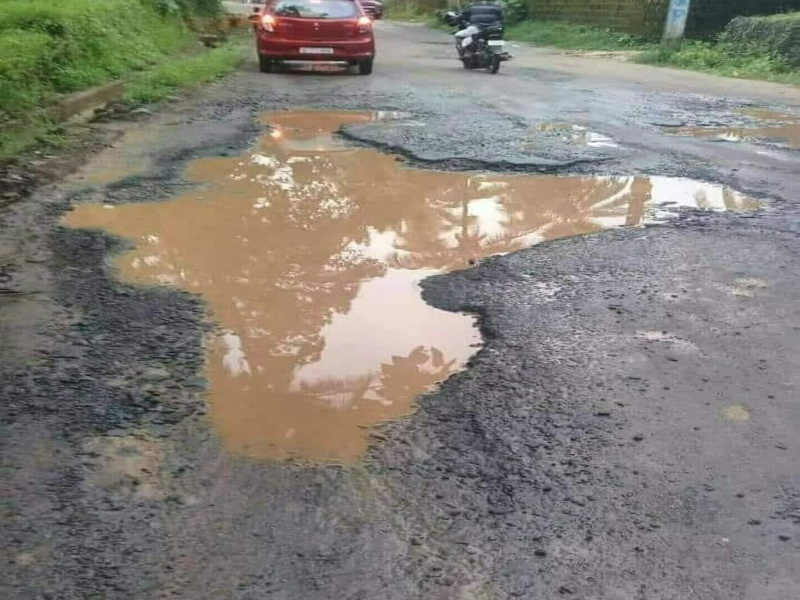pothole: (55, 101, 781, 472), (650, 100, 800, 155)
